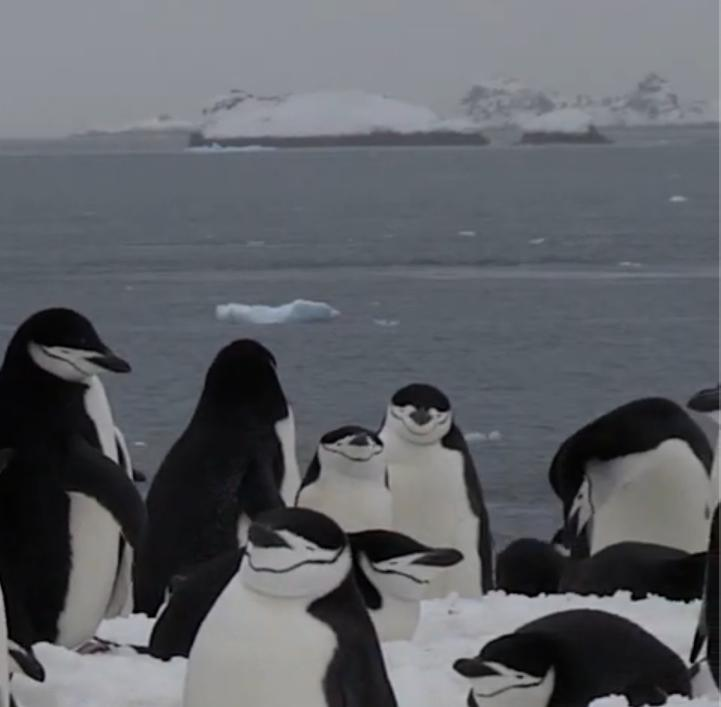Chinstrap Penguin: (186, 503, 418, 707), (3, 300, 147, 610), (536, 380, 721, 595), (443, 593, 696, 707), (351, 377, 501, 555), (299, 413, 429, 525), (0, 438, 8, 707)
